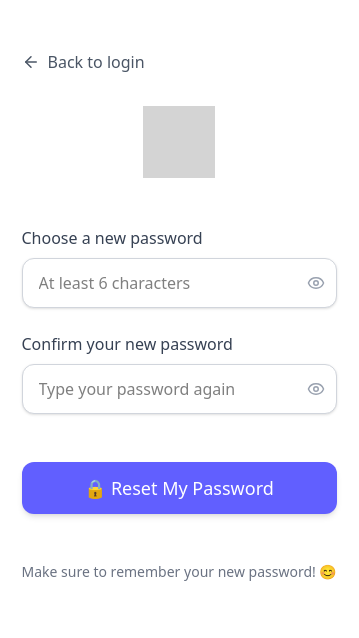
Test: ResetPassword Component › shows an error when password is too short
Type "short" into the password field with test id "password-input" at (179, 283), box [22,258,336,308]
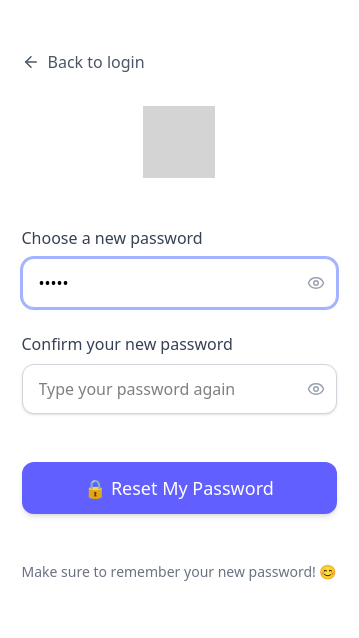
Type "short" into the password field with test id "confirm-password-input" at (179, 389), box [22,364,336,414]
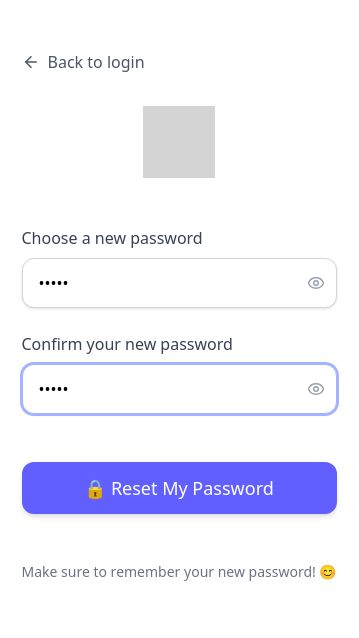
Click the button with test id "reset-password-button" at (179, 488), box [22,462,336,514]
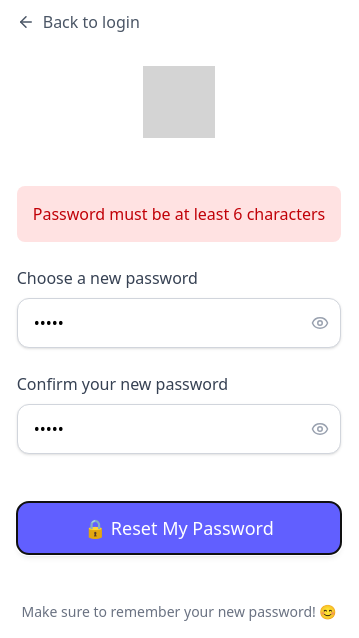
Expected: the text "Password must be at least 6 characters" is shown, [17,186,341,242]
Expected: the text with test id "error-message" reads "Password must be at least 6 characters", [33,203,325,225]
